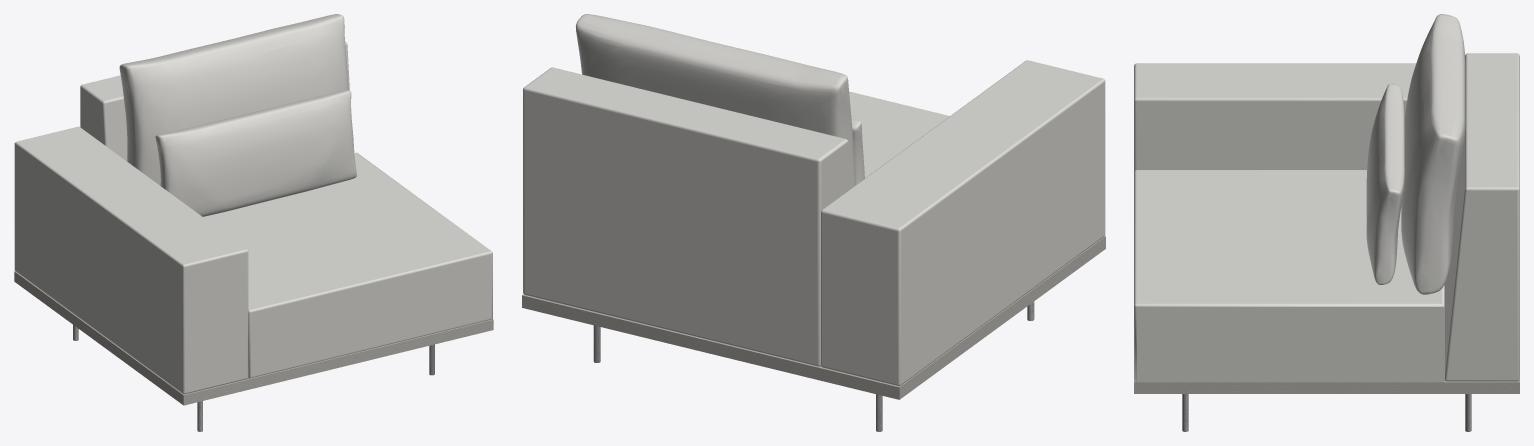
3 renders of one model, left to right at view 1: azimuth 30°, elevation 25°; view 2: azimuth 150°, elevation 25°; view 3: azimuth 270°, elevation 25°, orthographic. The views are drawn at different scales.
Visible parts, largest first — view 1: instance_0, instance_0.012, instance_0.011, instance_0.003; view 2: instance_0, instance_0.012, instance_0.003, instance_0.011; view 3: instance_0, instance_0.012, instance_0.011, instance_0.003.
Boxes of the visible parts, left/top/right/bottom form: instance_0: left=14, top=41, right=492, bottom=394; instance_0.012: left=119, top=14, right=348, bottom=185; instance_0.011: left=155, top=90, right=356, bottom=216; instance_0.003: left=14, top=271, right=493, bottom=405; instance_0: left=523, top=60, right=1105, bottom=386; instance_0.012: left=575, top=14, right=855, bottom=188; instance_0.003: left=522, top=236, right=1105, bottom=399; instance_0.011: left=851, top=118, right=864, bottom=184; instance_0: left=1134, top=53, right=1519, bottom=382; instance_0.012: left=1401, top=14, right=1465, bottom=294; instance_0.011: left=1366, top=83, right=1404, bottom=284; instance_0.003: left=1134, top=285, right=1519, bottom=393.
Bounding box in the file's own units: 0.951 × 0.799 × 0.9.
3 materials, 2 textured.
